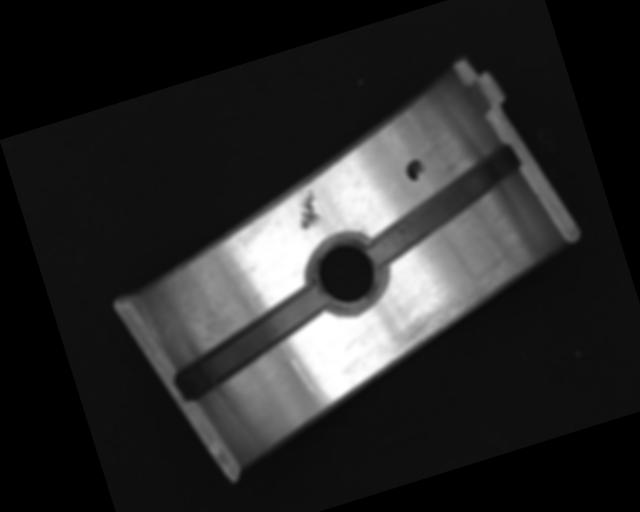blot: (402, 156, 427, 182)
bruise: (290, 188, 325, 231)
gap: (352, 141, 539, 269), (162, 284, 340, 402)
hole: (301, 230, 396, 321)
nick: (292, 352, 334, 414)
scratch: (370, 251, 537, 362)
